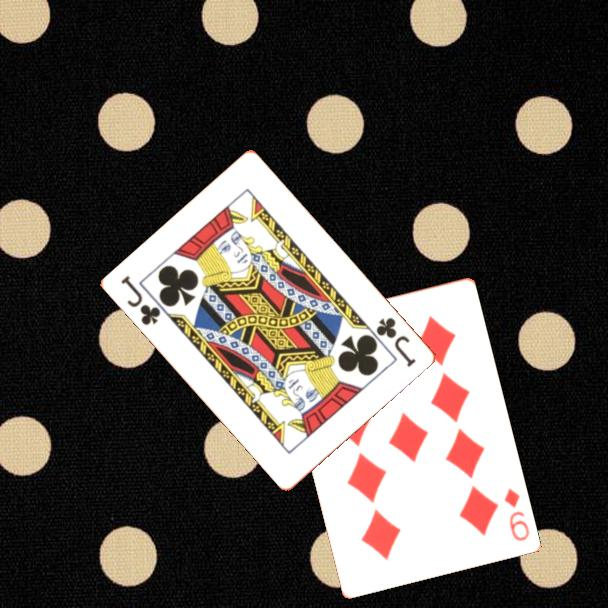c11: (373, 314, 419, 370), (118, 272, 164, 328)
d09: (500, 484, 532, 544)
